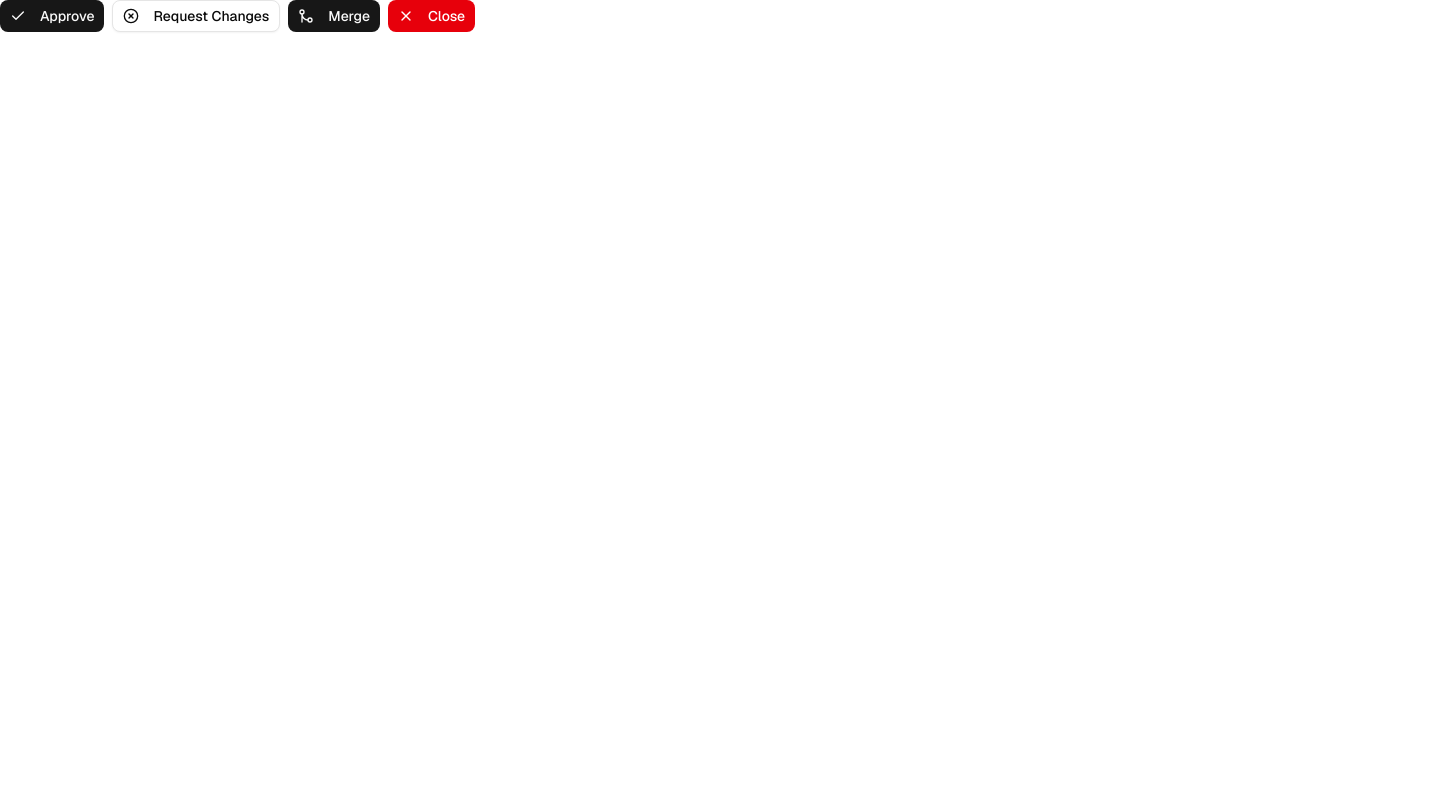
PrActions › displays error on API failure
The image size is (1440, 810).
Click the button with test id "action-merge-pr" at (334, 16), box [288,0,380,32]
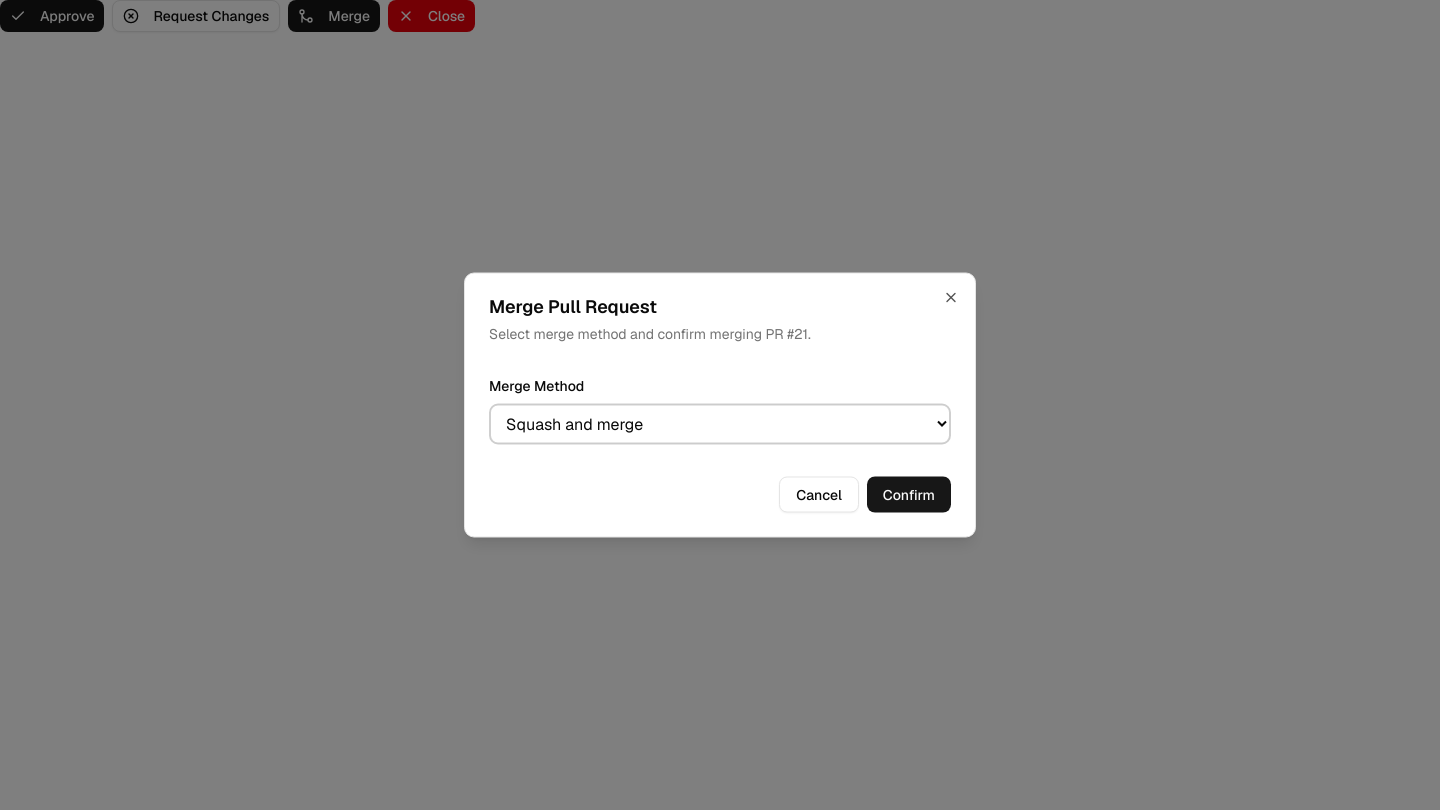
Now the dialog is shown, box [464,272,976,538]
Click the button "Confirm" at (909, 494), box [867,476,951,512]
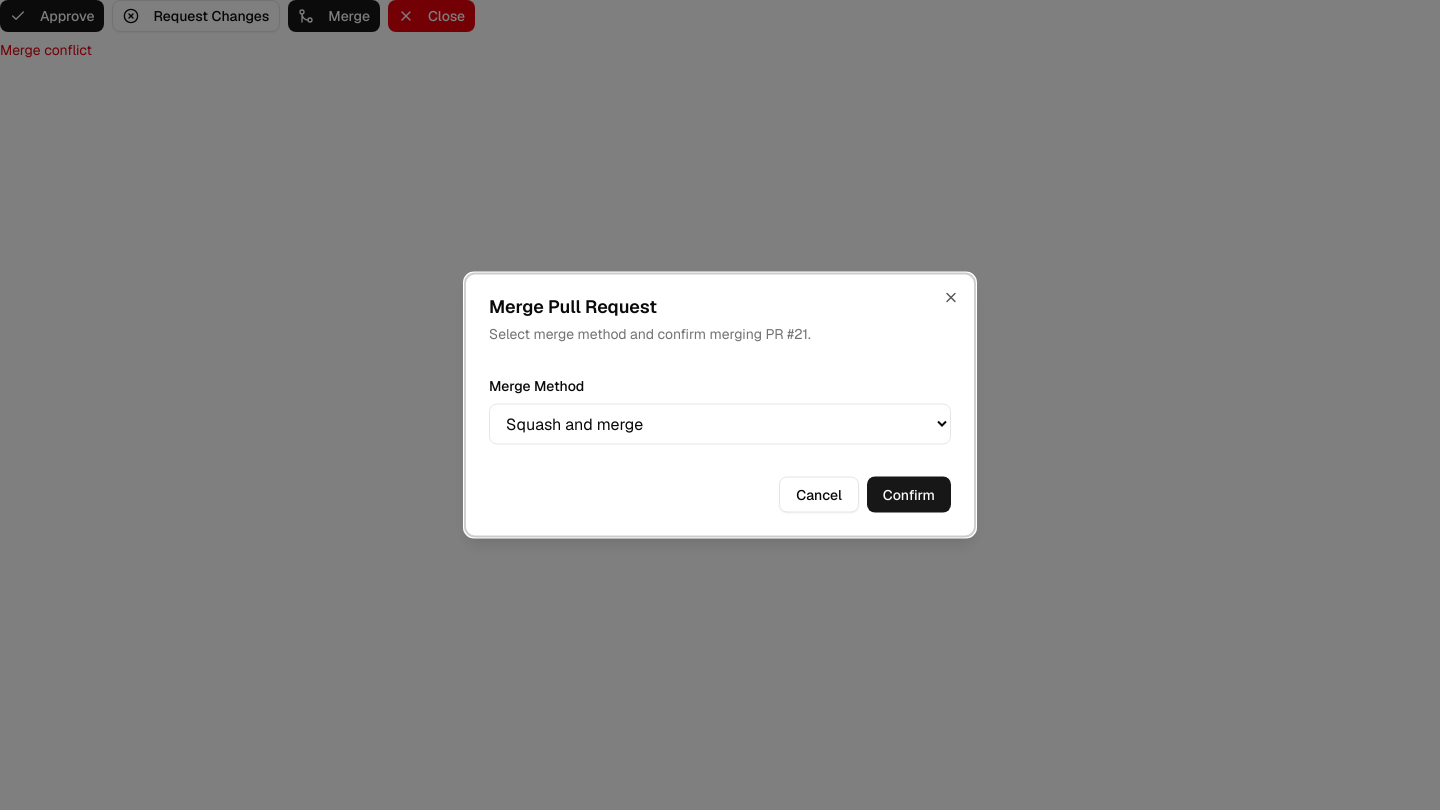
Now the text "Merge conflict" is shown, box [0,41,92,59]
